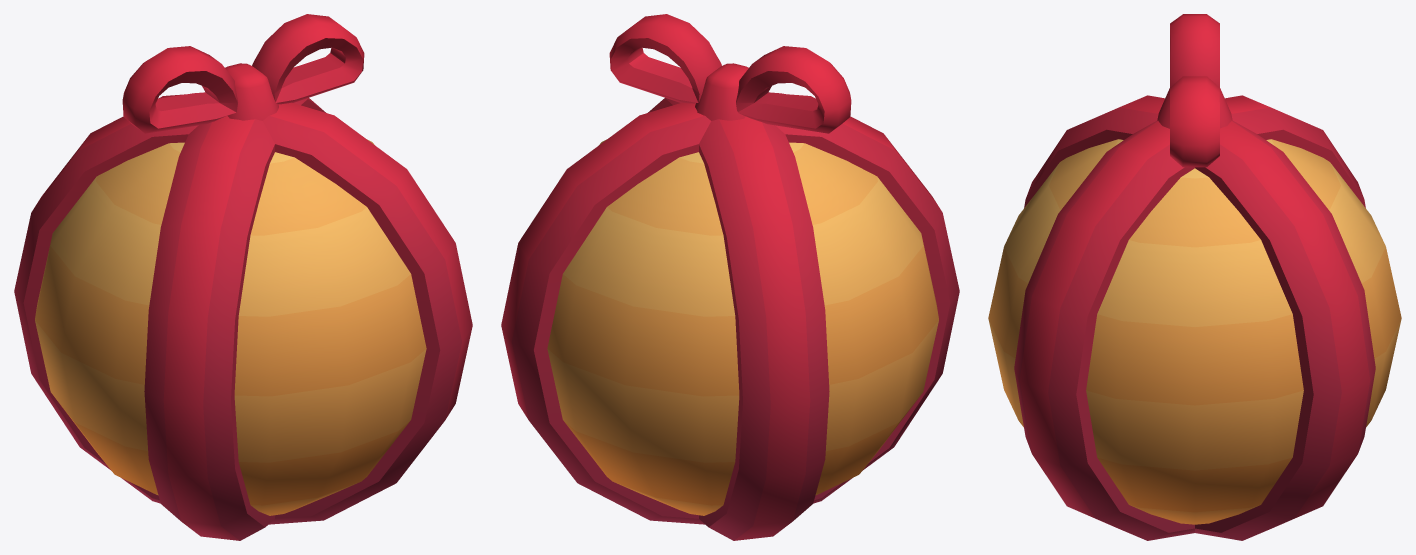
The model's file is present_sphere_B_yellow.glb.
The picture shows the model from 3 angles, left to right: view 1: azimuth 30°, elevation 25°; view 2: azimuth 150°, elevation 25°; view 3: azimuth 270°, elevation 25°; orthographic projection.
Visible parts, largest first — view 1: present_sphere_B_yellow; view 2: present_sphere_B_yellow; view 3: present_sphere_B_yellow.
Boxes of the visible parts, left/top/right/bottom form: present_sphere_B_yellow: left=14, top=14, right=472, bottom=540; present_sphere_B_yellow: left=501, top=14, right=959, bottom=540; present_sphere_B_yellow: left=988, top=14, right=1401, bottom=540.
Bounding box in the file's own units: 0.7933 × 1 × 0.7933.
1 material, 1 textured.
